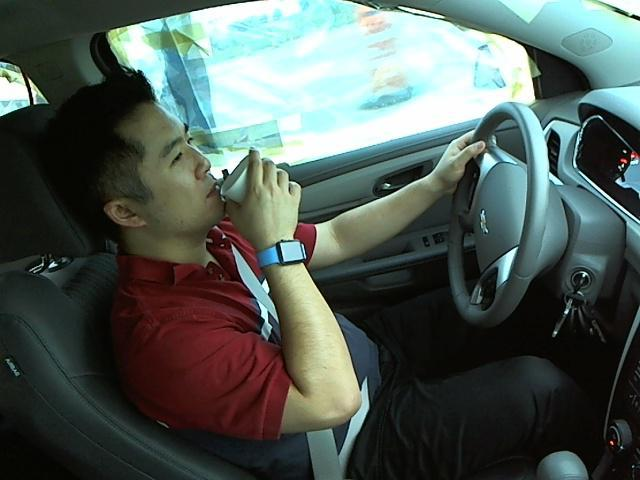Drinking: (100, 99, 300, 239)
